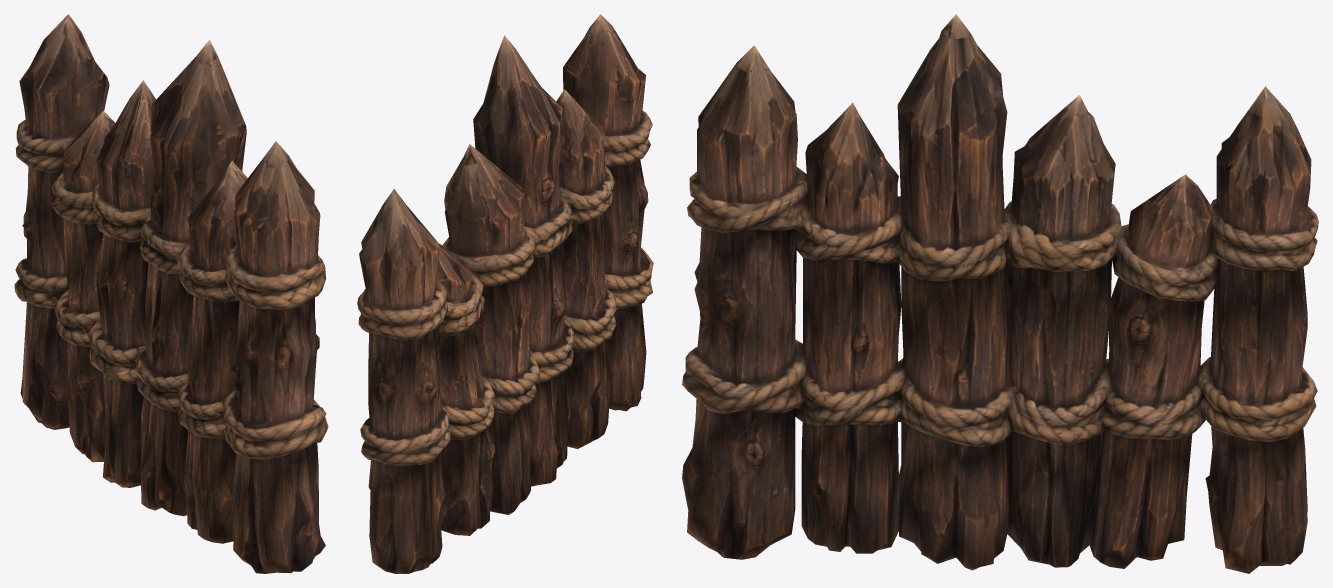
The model's file is SM_Env_Palisade.fbx.
3 views of the same model, side by side, from view 1: azimuth 30°, elevation 25°; view 2: azimuth 150°, elevation 25°; view 3: azimuth 270°, elevation 25° (orthographic). The views are drawn at different scales.
Parts seen in each view (by area): view 1: SM_Env_Palisade; view 2: SM_Env_Palisade; view 3: SM_Env_Palisade.
Part boxes in pixels (bbox=[...]): SM_Env_Palisade: bbox=[14, 14, 328, 573]; SM_Env_Palisade: bbox=[357, 14, 653, 573]; SM_Env_Palisade: bbox=[682, 14, 1318, 573].
Bounding box in the file's own units: 14.62 × 72.56 × 70.
1 material, 1 textured.
